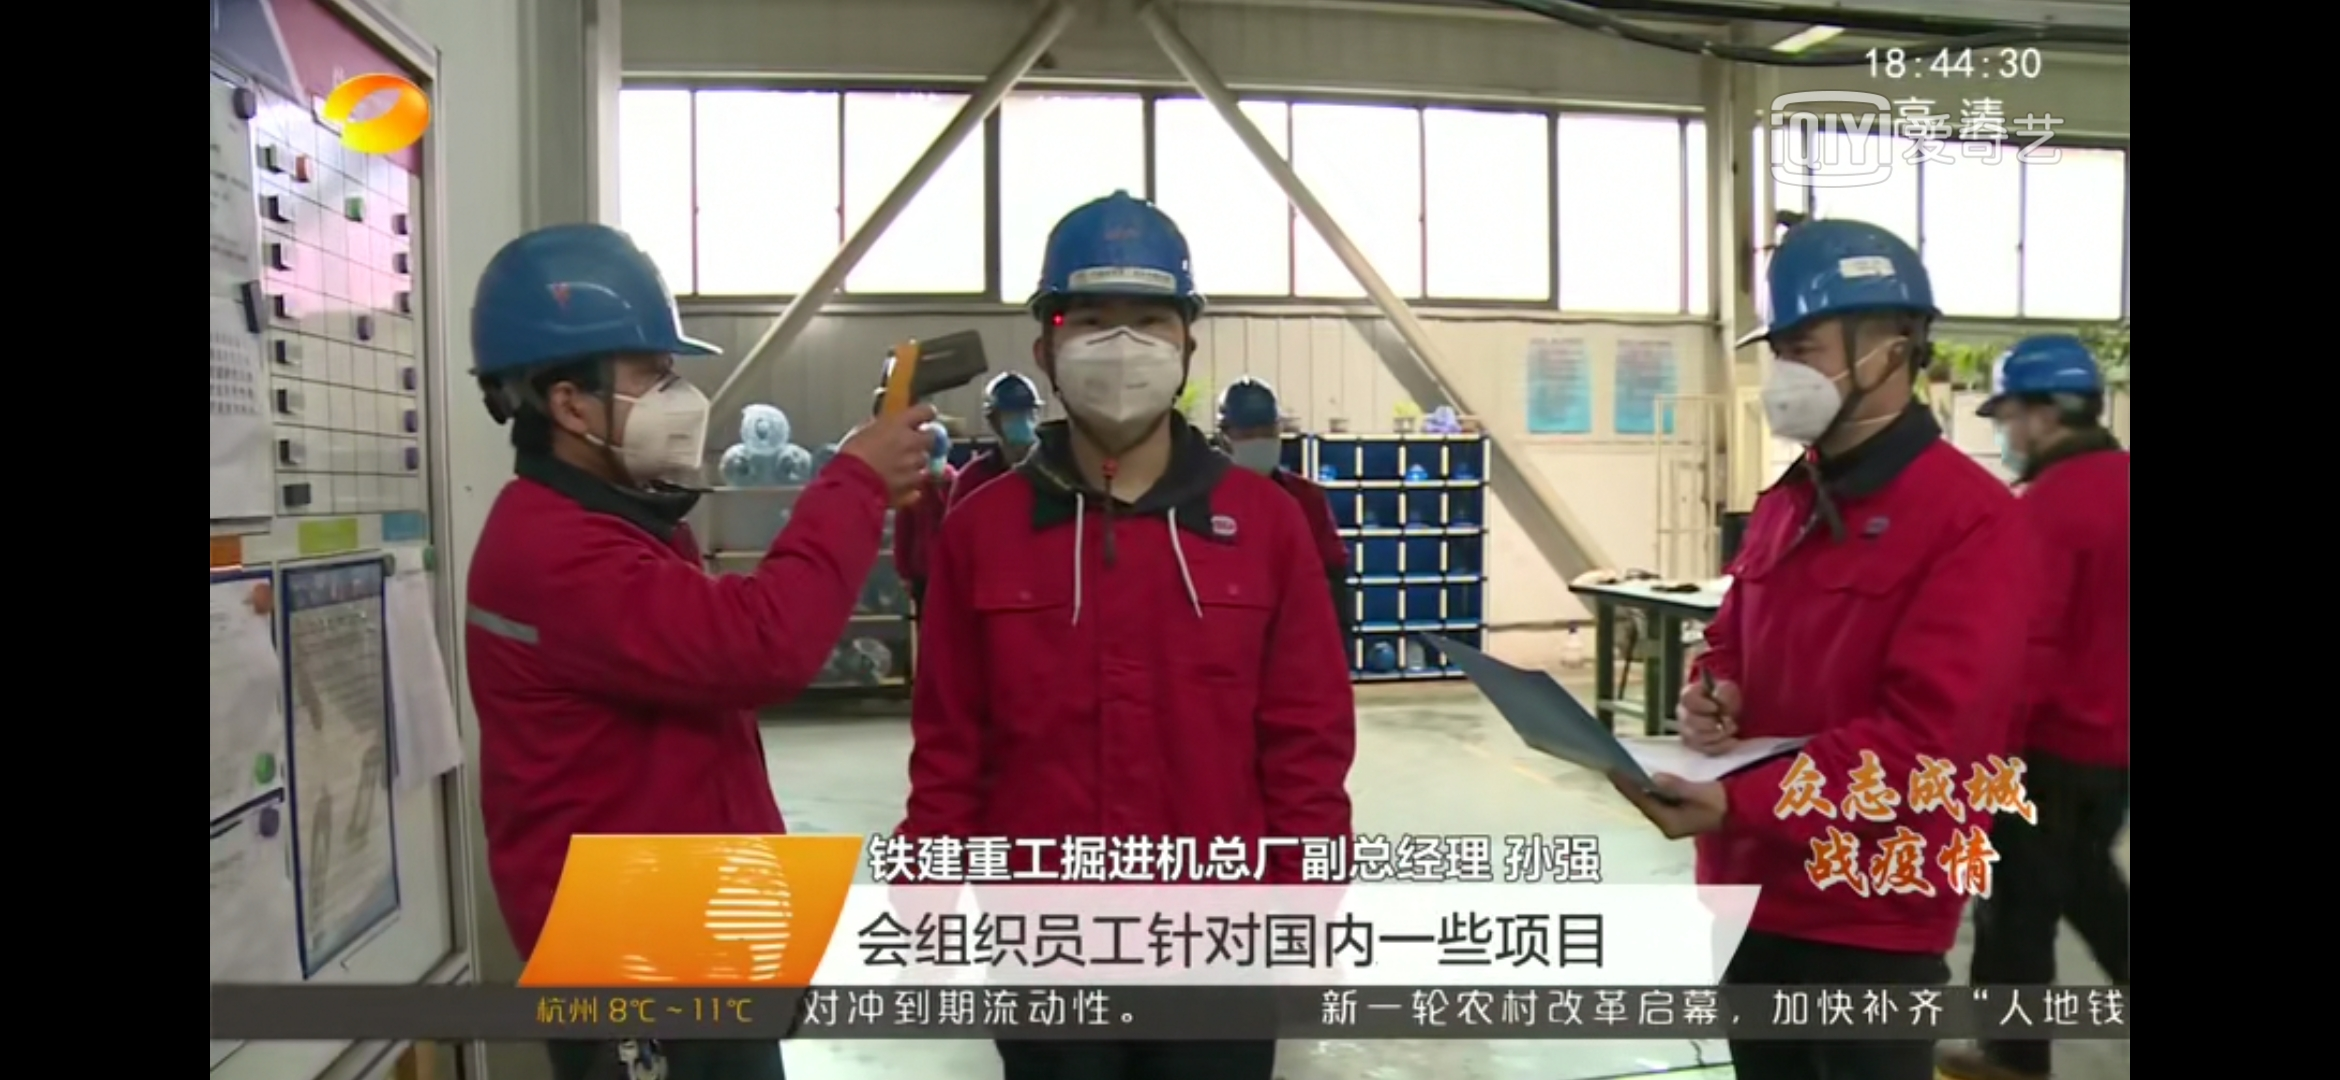correctlyWear: (549, 330, 727, 513), (1039, 286, 1185, 442), (1746, 313, 1912, 442), (1986, 377, 2088, 477), (1218, 416, 1282, 483), (991, 409, 1040, 450)
